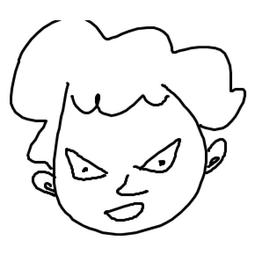ear: (204, 137, 227, 177), (30, 168, 54, 199)
eye: (63, 144, 112, 187), (143, 132, 184, 178)
open_mouth: (103, 201, 147, 225)
pointy_nose: (114, 173, 151, 200)
